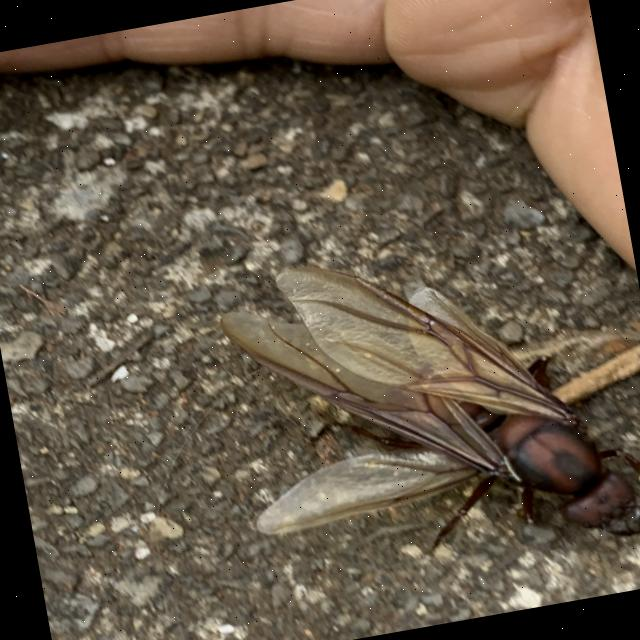Alive-Female-Alate: (213, 207, 640, 598)
